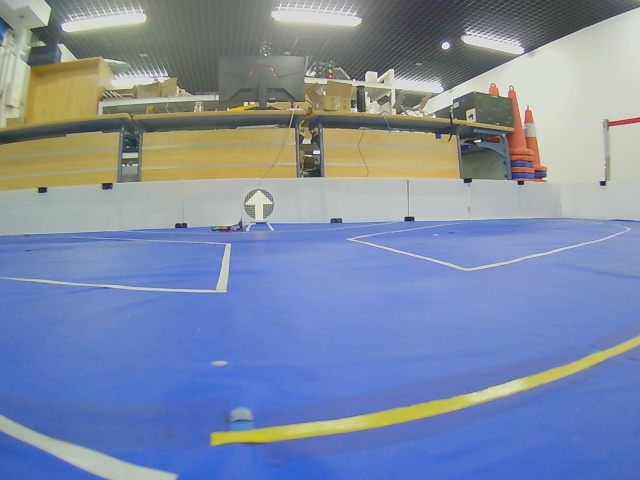straight_yellow: (244, 189, 274, 222)
